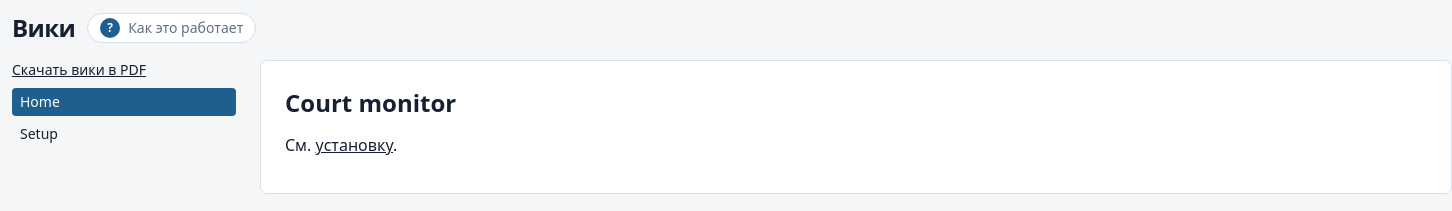
shows Home and follows a link to another page in place
Expected: the heading "Court monitor" is shown, [285,86,456,119]
What coordinates should you click on to do the following:
click the link "установку"
I would click on:
 (354, 145)
Its box is [316,134,393,156].
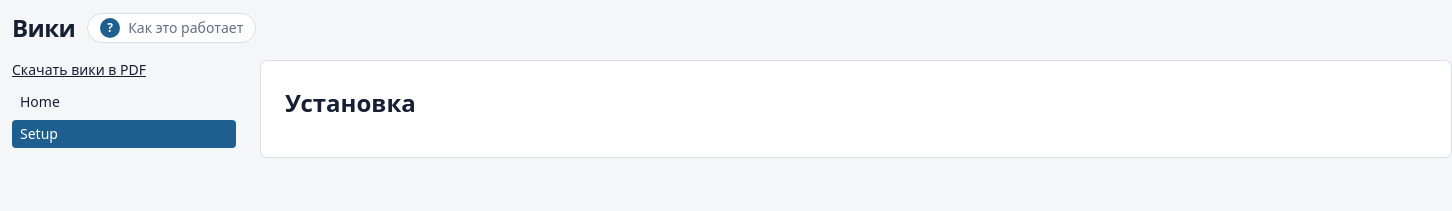
Expected: the heading "Установка" is shown, [285,86,416,119]
